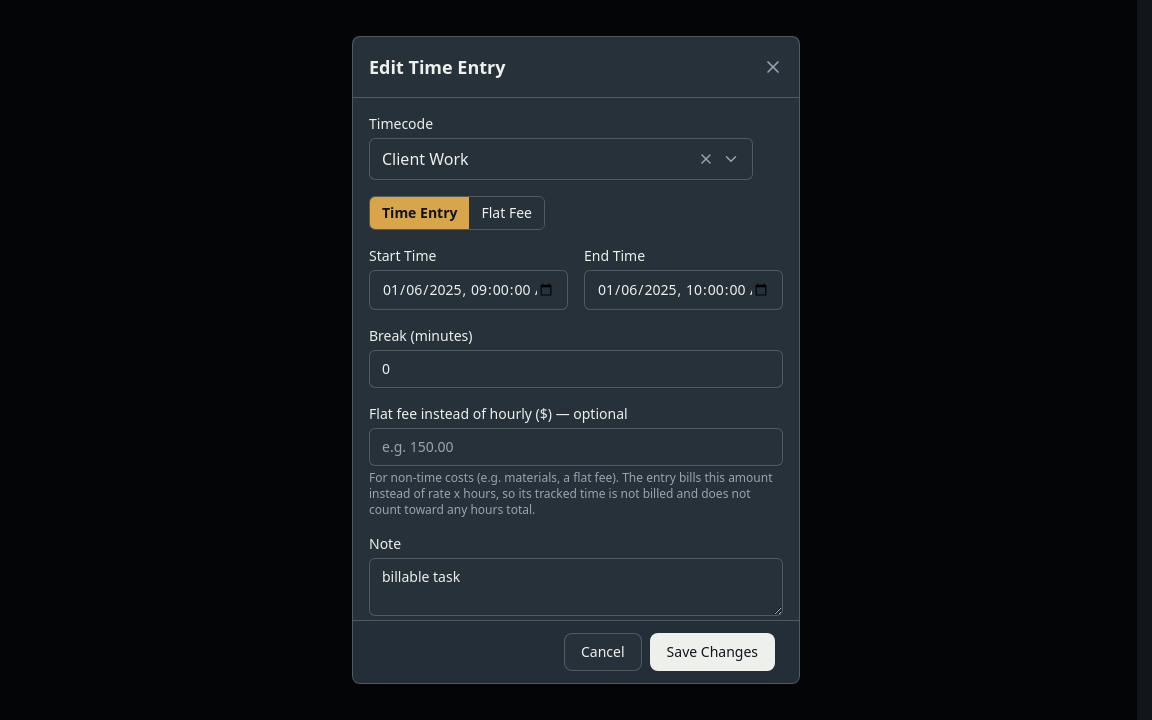
it: a flat fee carrying tracked time is disclosed wherever its hours go missing › editing an entry: names the tracked time an amount is about to displace
The width and height of the screenshot is (1152, 720).
Expected: the text "Flat fee instead of hourly ($) — optional" is shown, [369, 404, 628, 423]
Expected: the text "on the clock will not" is not shown
Type "150" into the number field with placeholder "e.g. 150.00" at (576, 447), box [369, 428, 783, 466]
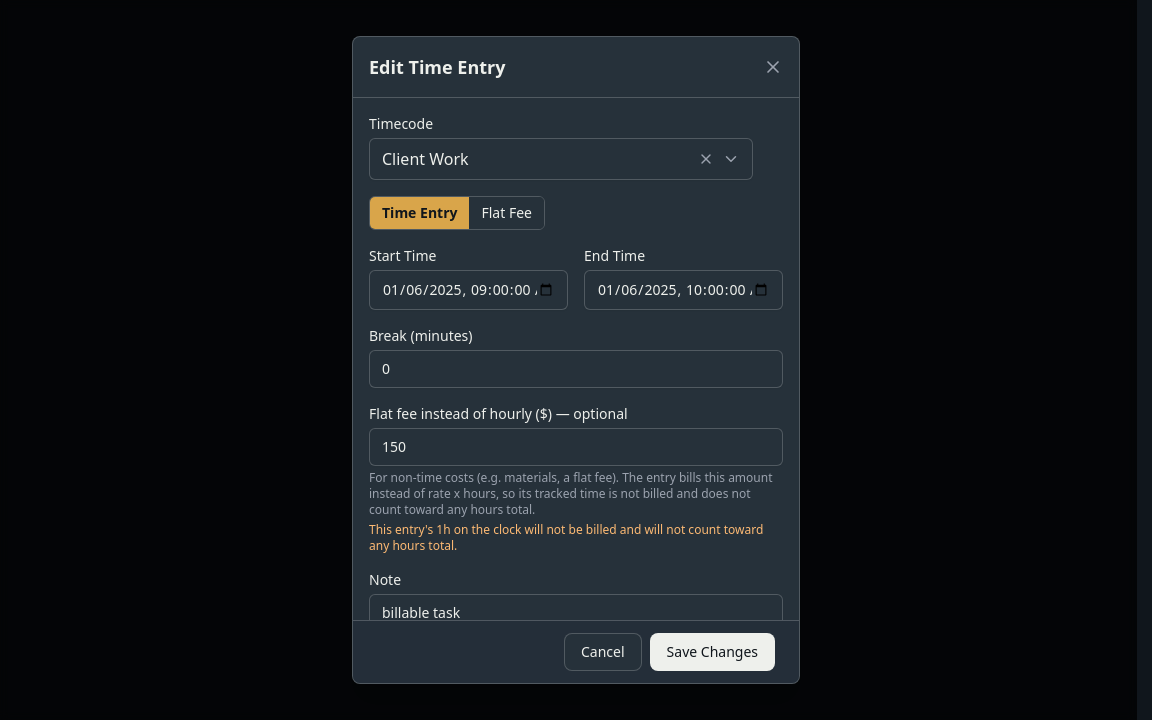
Result: the text "1h on the clock will not" is shown at [369, 522, 783, 554]
